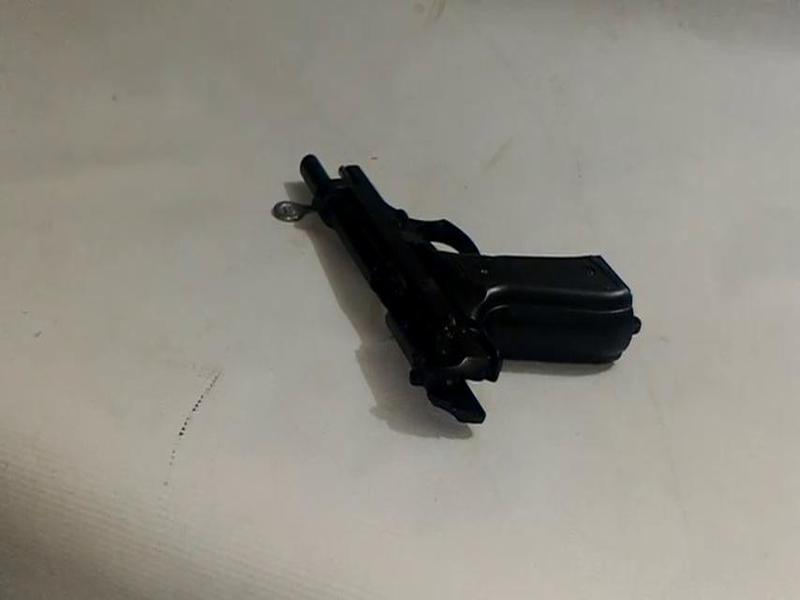Pistola: (287, 109, 662, 465)
